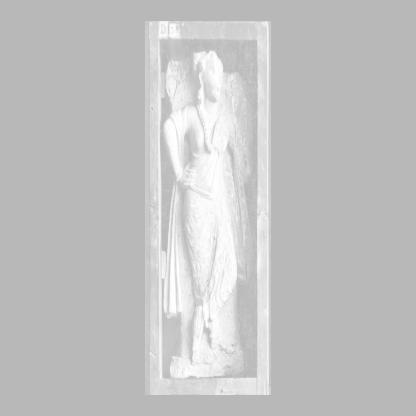buddha-standing: (164, 51, 250, 378)
